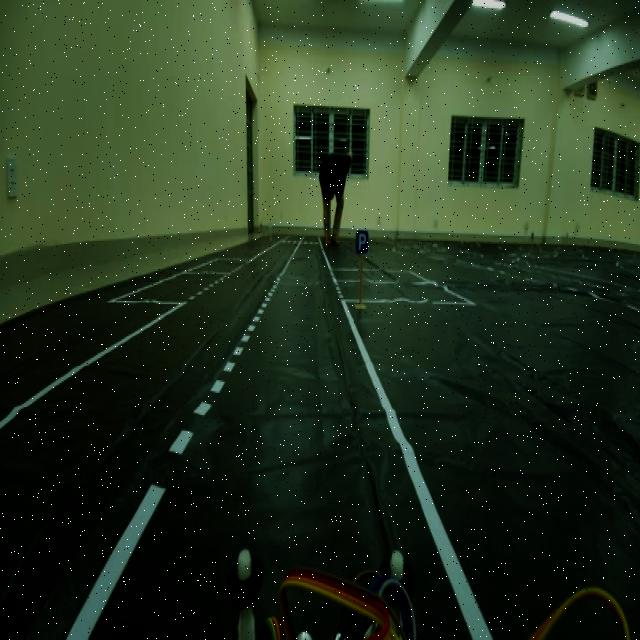parking: (353, 219, 371, 267)
